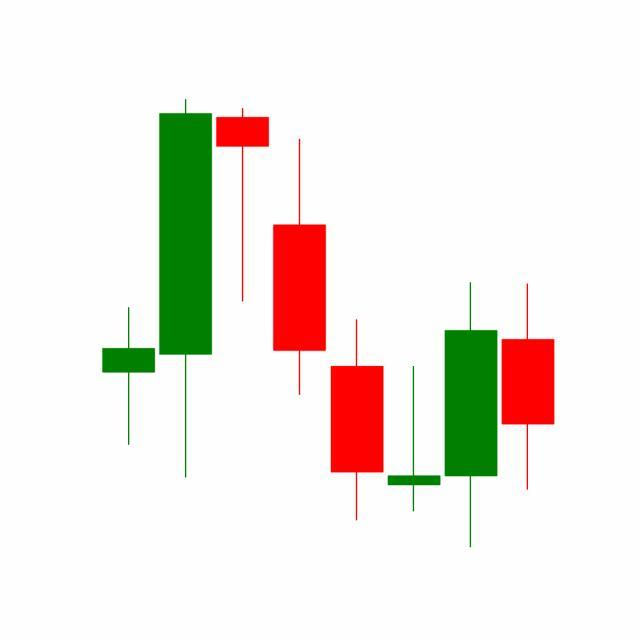Morning Doji Star: (328, 279, 500, 549)
